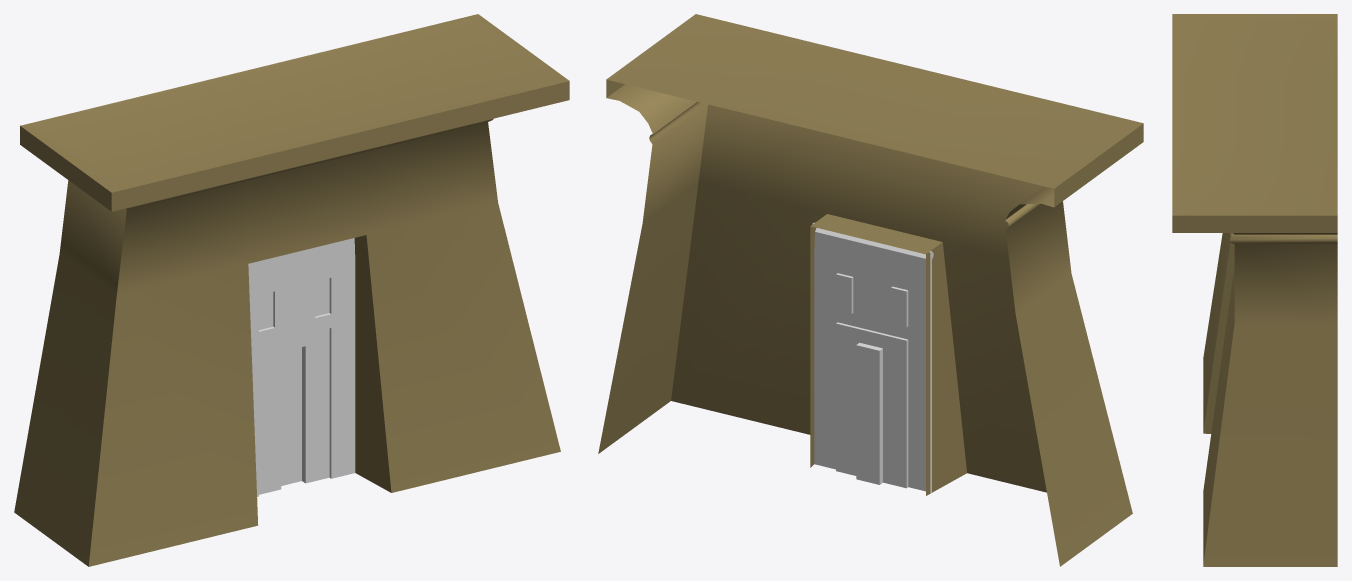
The model's file is PortalCombo_v1.fbx.
The picture shows the model from 3 angles, left to right: view 1: azimuth 30°, elevation 25°; view 2: azimuth 150°, elevation 25°; view 3: azimuth 270°, elevation 25°; orthographic projection. The views are drawn at different scales.
Parts seen in each view (by area): view 1: Pylon_v1, Door_v1; view 2: Pylon_v1, Door_v1; view 3: Pylon_v1.
Boxes of the visible parts, x1,y1,x2,y2 form: Pylon_v1: (14, 14, 569, 566); Door_v1: (248, 238, 355, 496); Pylon_v1: (598, 14, 1143, 566); Door_v1: (812, 222, 933, 493); Pylon_v1: (1172, 14, 1337, 566).
Size of the model in its own units: 10.34 by 8.06 by 3.47.
